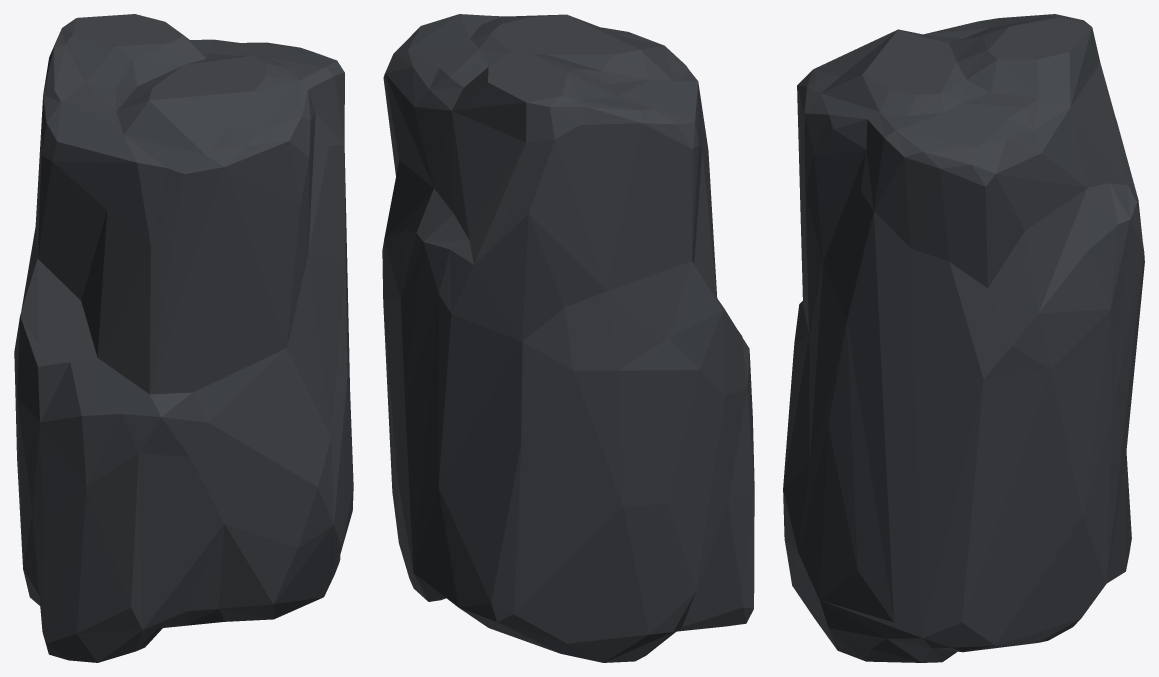
Rendered from crypt_cliff.gltf.
3 renders of one model, left to right at view 1: azimuth 30°, elevation 25°; view 2: azimuth 150°, elevation 25°; view 3: azimuth 270°, elevation 25°, orthographic. The views are drawn at different scales.
Visible parts, largest first — view 1: crypt_cliff; view 2: crypt_cliff; view 3: crypt_cliff.
Boxes of the visible parts, left/top/right/bottom form: crypt_cliff: left=14, top=14, right=353, bottom=662; crypt_cliff: left=382, top=14, right=754, bottom=662; crypt_cliff: left=783, top=14, right=1144, bottom=662.
Size of the model in its own units: 9.23 by 15.37 by 8.58.
1 material, 1 textured.
